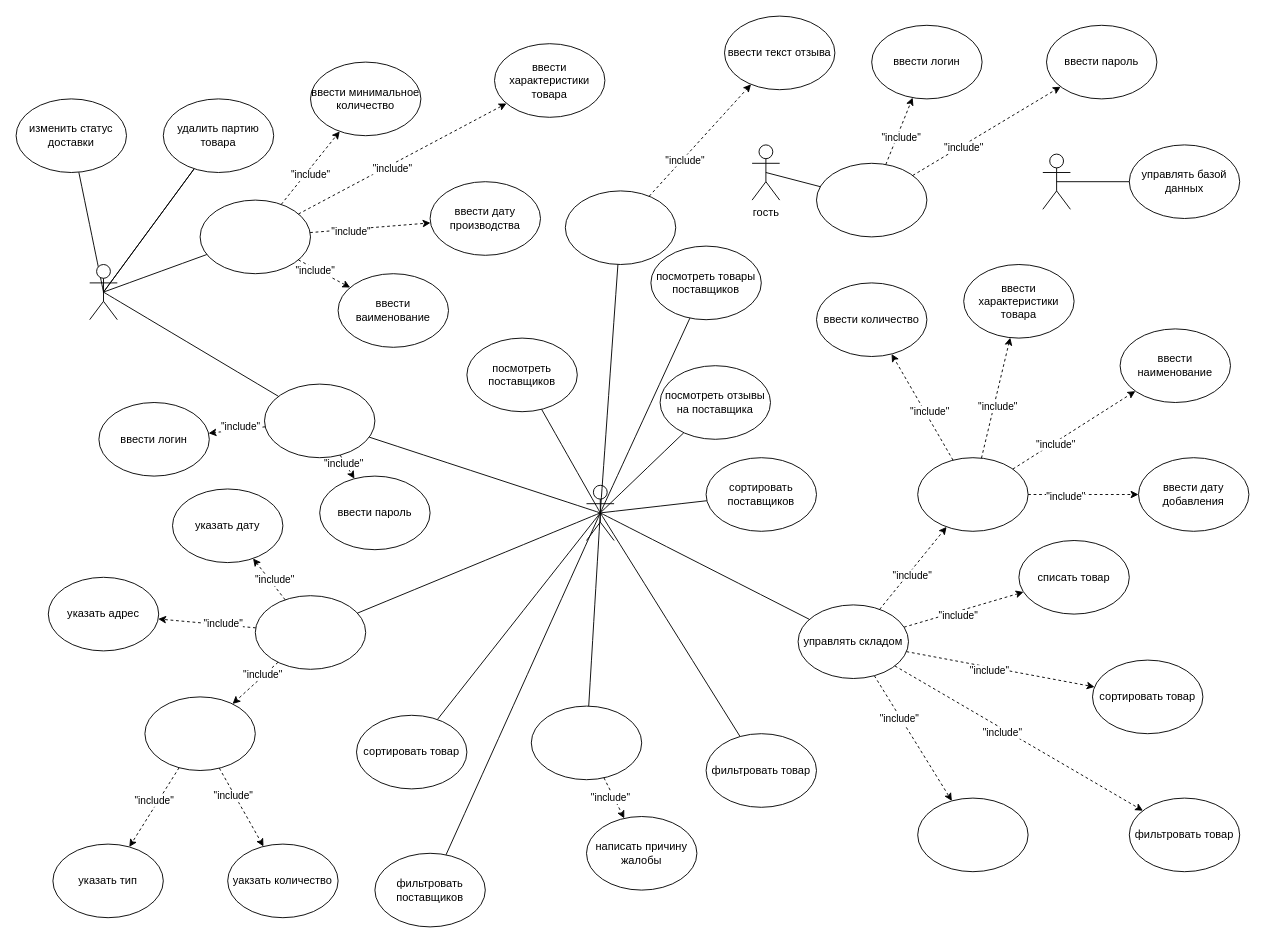
Some shapes in this 1265 by 943 pixel diagram are drawn without their labels. The shapes that lost their labels are listed below. From the top down, each one's box as (x1, y1, x2, y2) in pixels, then its label:
(816, 162, 927, 237): зарегистрироваться
(1042, 153, 1070, 209): администратор
(199, 199, 310, 274): добавить партию товара
(564, 190, 676, 264): оставить отзыв на поставщика
(89, 264, 117, 320): поставщик
(264, 383, 375, 458): войти в учетку
(586, 484, 614, 540): магазин
(917, 457, 1028, 531): добавить товар на склад
(254, 595, 366, 669): заказать поставку
(144, 696, 255, 770): заказать товар
(530, 705, 642, 780): пожаловаться на поставщика
(917, 797, 1028, 872): удалить товар со склада
